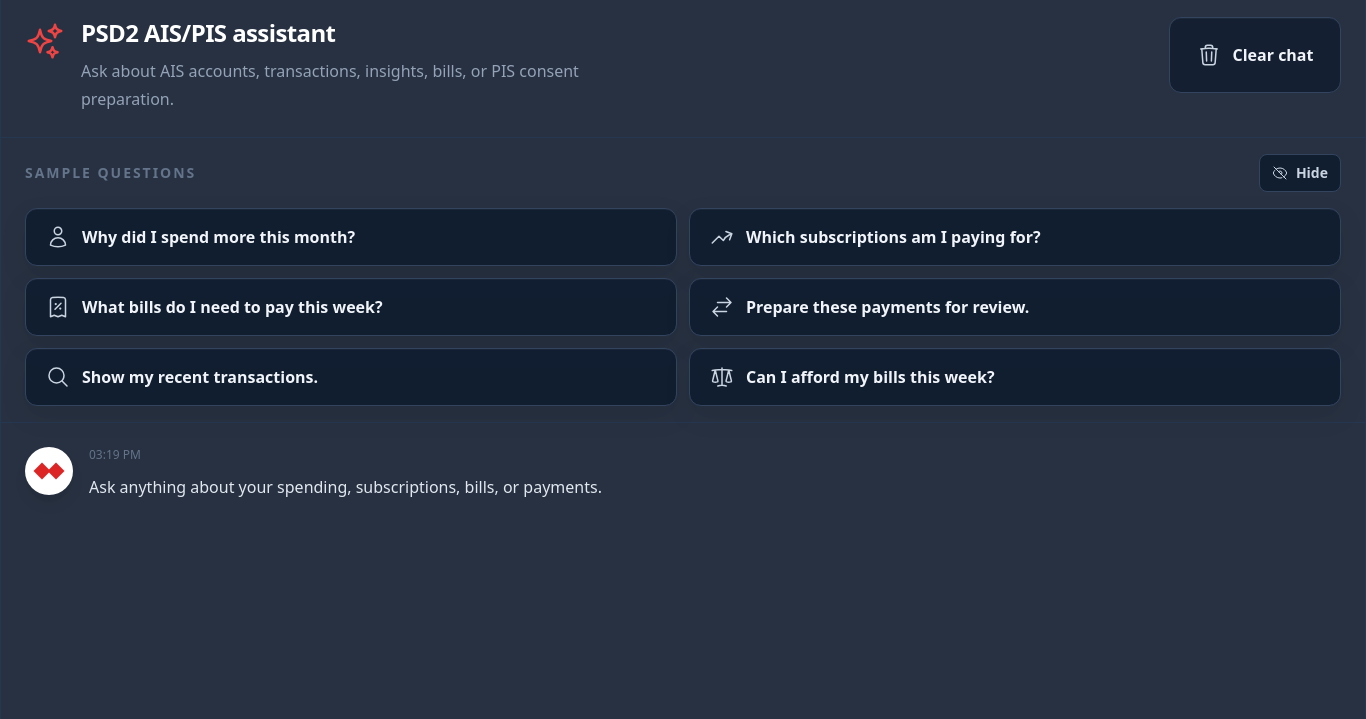
Test: FinancialAssistantChat › renders structured bill response and clears chat
Click the button "What bills do I need to pay this week?" at (351, 307), box [25,278,677,336]
(page scrolled)
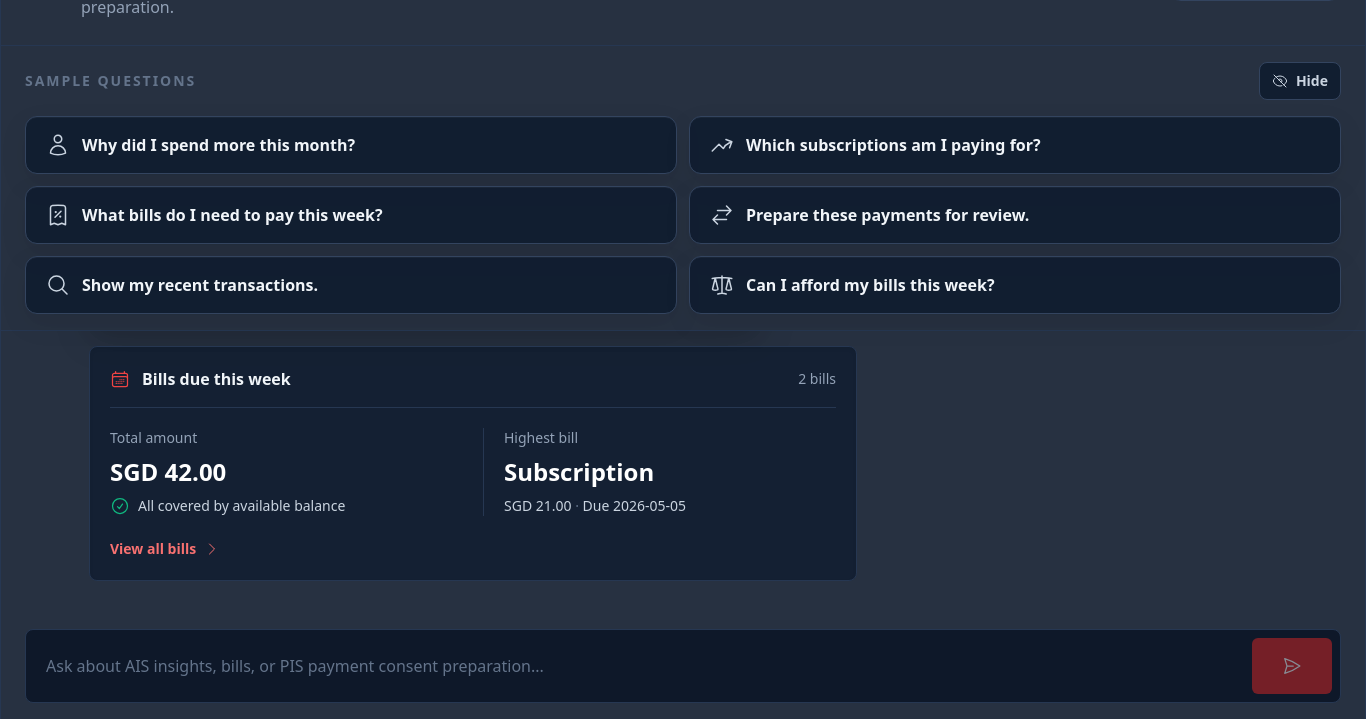
Expected: the text "Bills due this week" is shown, [142,367,291,391]
Expected: the text "2 bills" is shown, [798,369,836,389]
Click the button "View all bills" at (165, 549), box [110,539,220,559]
(page scrolled)
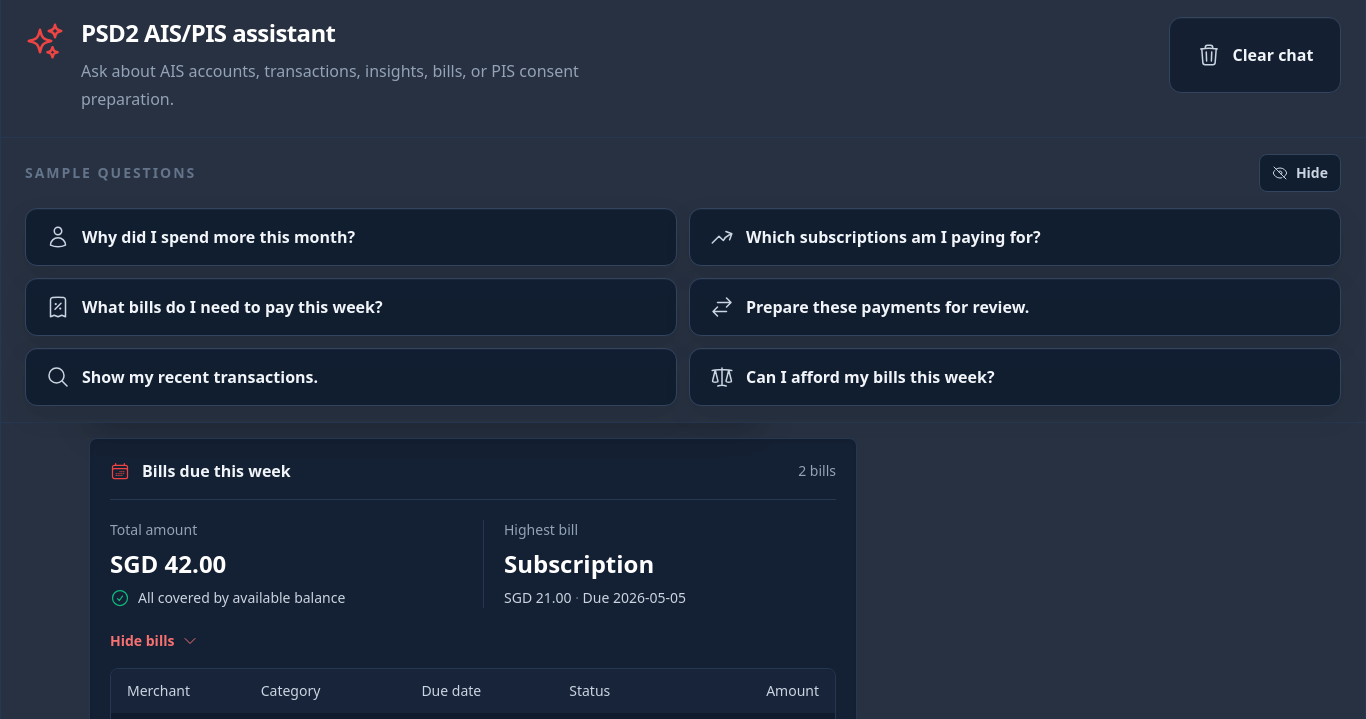
Expected: the column heading "Merchant" is shown, [111,669,245,713]
Expected: the button "Hide bills" is shown, [110,631,198,651]
Click the button "Clear chat" at (1255, 55), box [1169,17,1341,93]
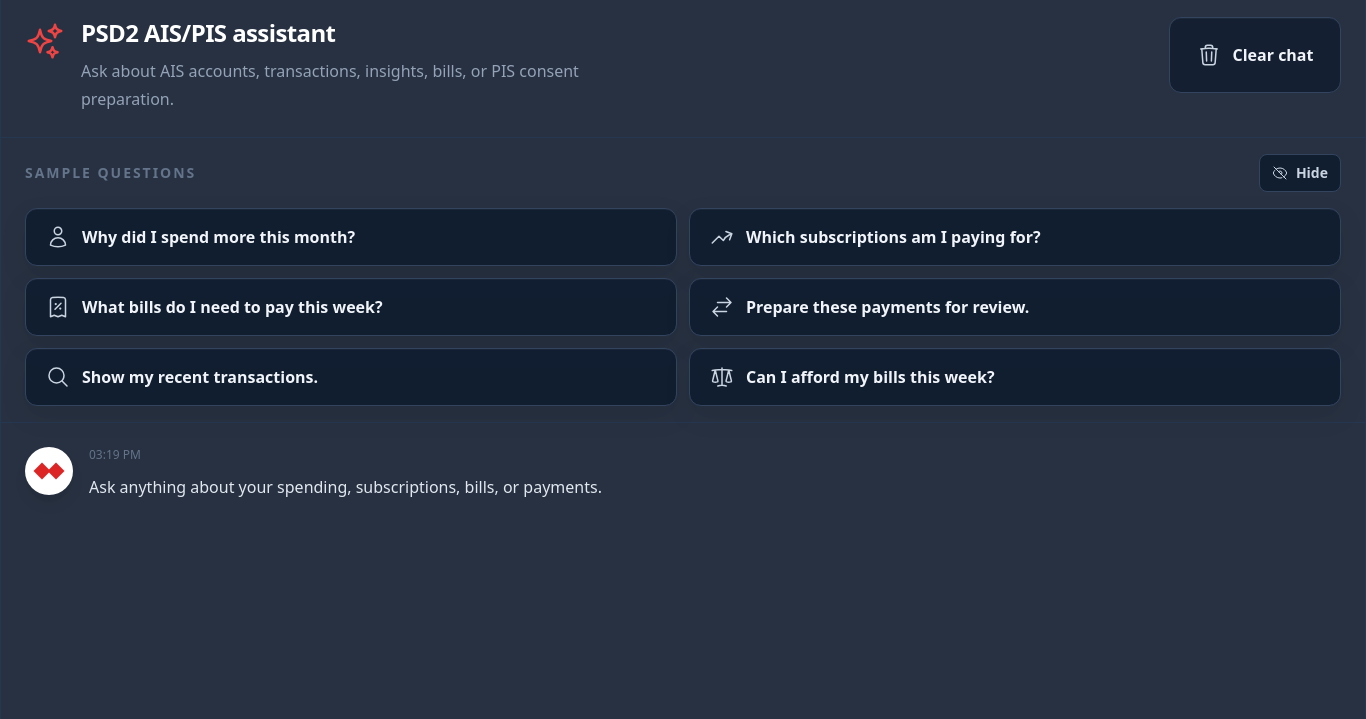
Expected: the text "Ask anything about" is shown, [89,476,602,498]
Expected: the text "2 bills" is gone
